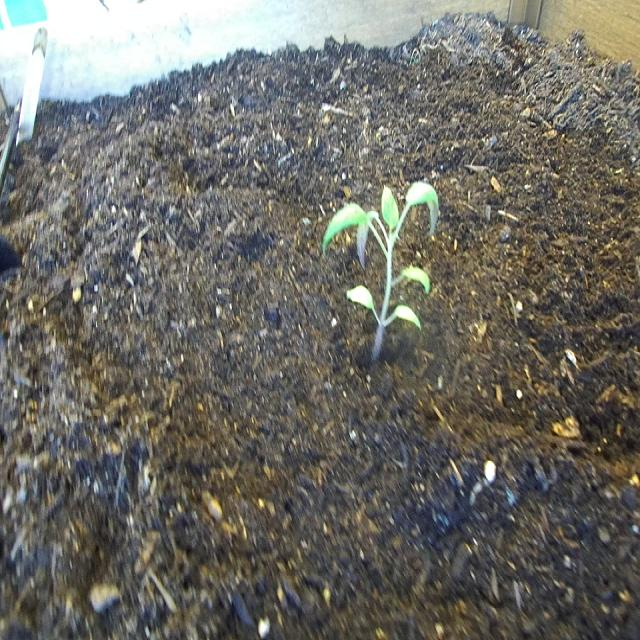Healthy: (318, 172, 446, 370)
